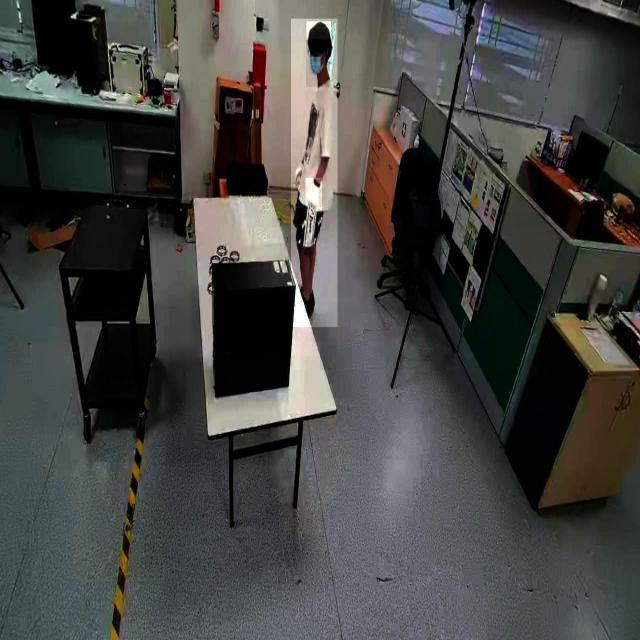gloves: (306, 178, 322, 214)
